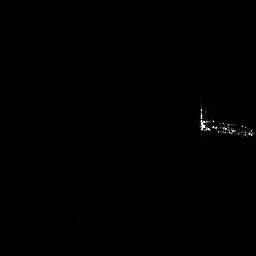ship: (201, 118, 256, 138)
